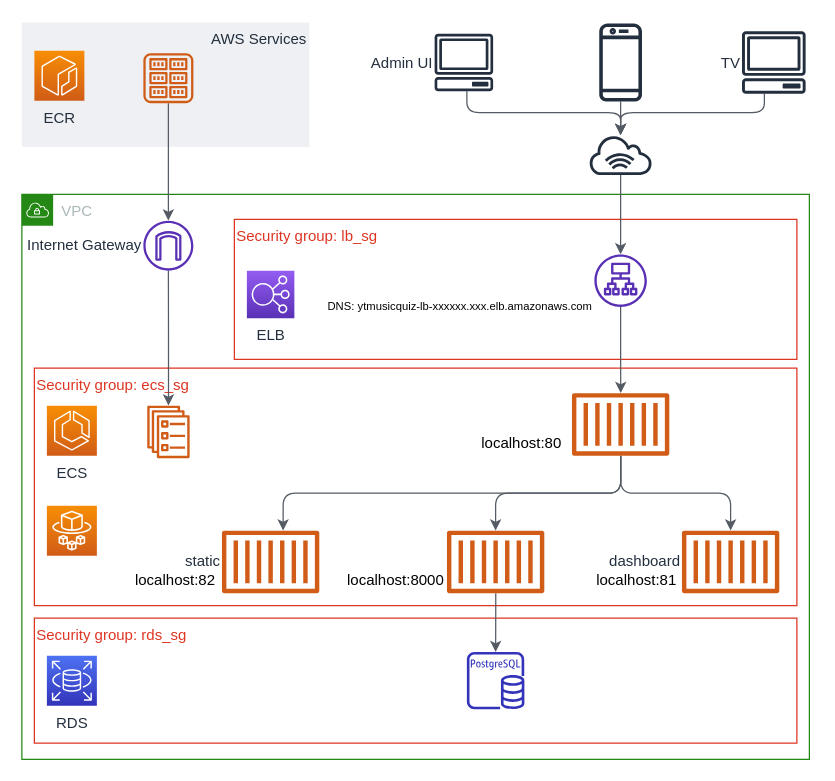
This 835x781 diagram has some shape labels left out. The centre of each missing label's shape, as x and y in pixels:
"Application Load Balancer" belongs at pixel 620 280.
"ECS Service: ytmusicquiz" belongs at pixel 167 431.
"Fargate" belongs at pixel 71 530.
"Game master" belongs at pixel 620 61.
"Registry" belongs at pixel 168 77.
"ytmusic-proxy" belongs at pixel 620 423.
"ytmusicquiz" belongs at pixel 495 561.
